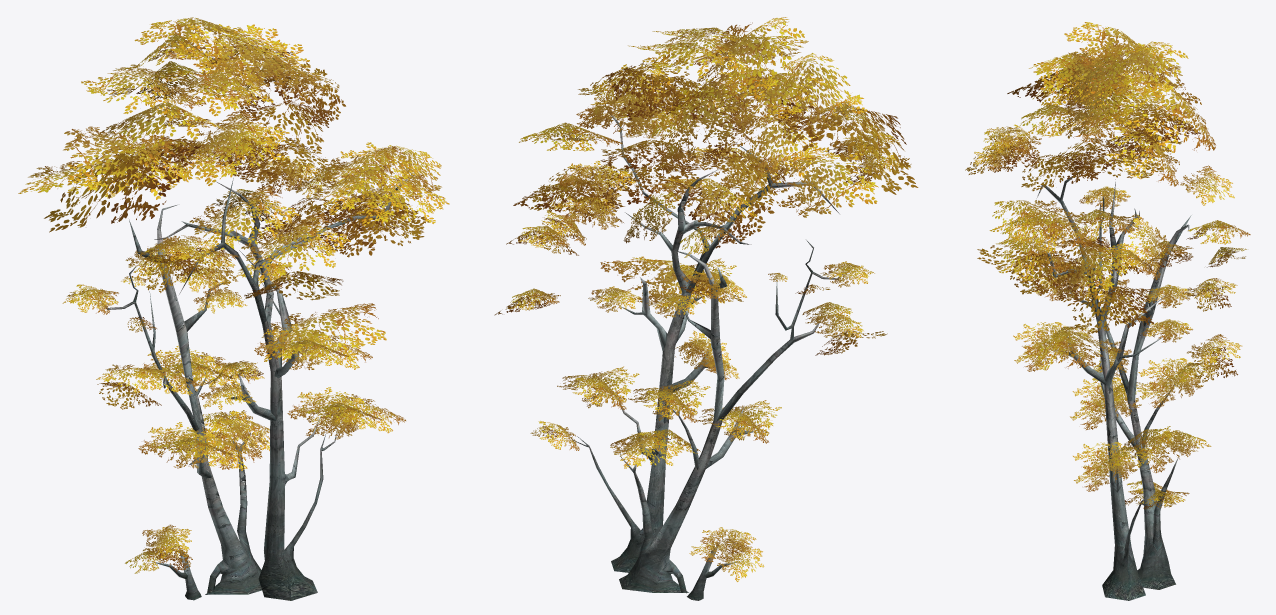
Rendered from wd_zhiwu_03.FBX.
3 renders of one model, left to right at view 1: azimuth 30°, elevation 25°; view 2: azimuth 150°, elevation 25°; view 3: azimuth 270°, elevation 25°, orthographic. The views are drawn at different scales.
Parts seen in each view (by area): view 1: wd_zhiwu_03; view 2: wd_zhiwu_03; view 3: wd_zhiwu_03.
Boxes of the visible parts, left/top/right/bottom form: wd_zhiwu_03: left=18, top=17, right=449, bottom=600; wd_zhiwu_03: left=494, top=17, right=918, bottom=600; wd_zhiwu_03: left=965, top=22, right=1250, bottom=600.
Size of the model in its own units: 1802 by 2346 by 1259.
